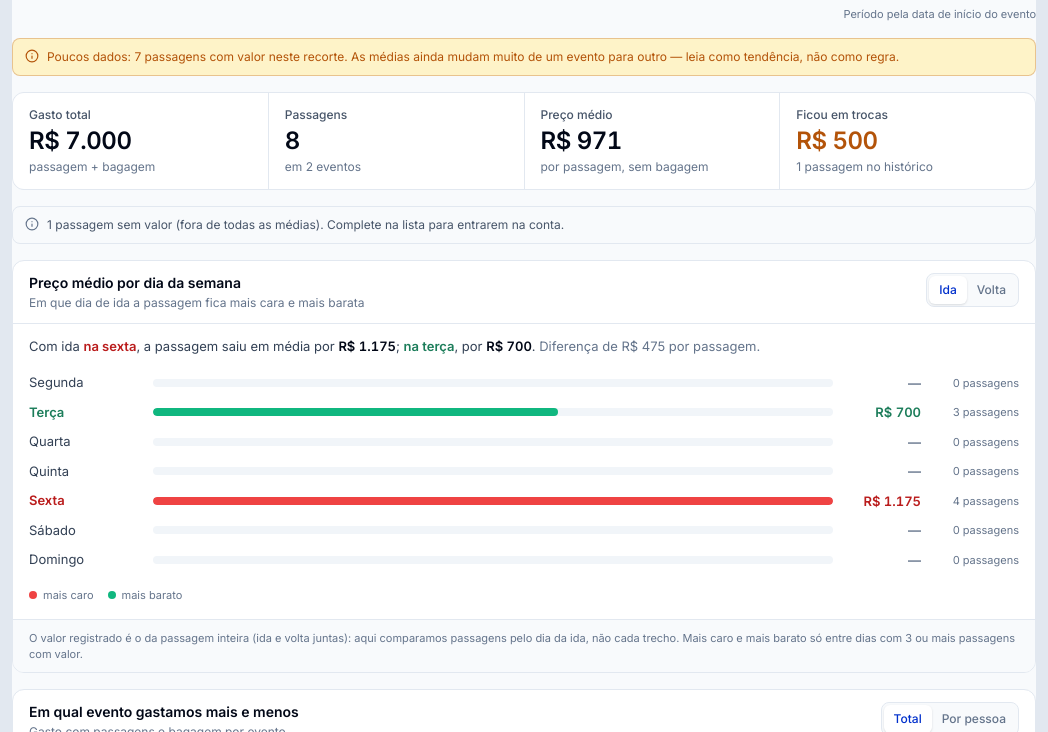
Test: AnalisesDePassagens › alternar para 'Por pessoa' reordena, muda a frase e sobe para a visão (que vai para a URL)
Click the radio button with test id "eventos-modo-pessoa": (974, 718) [932,704,1016,731]
(page scrolled)
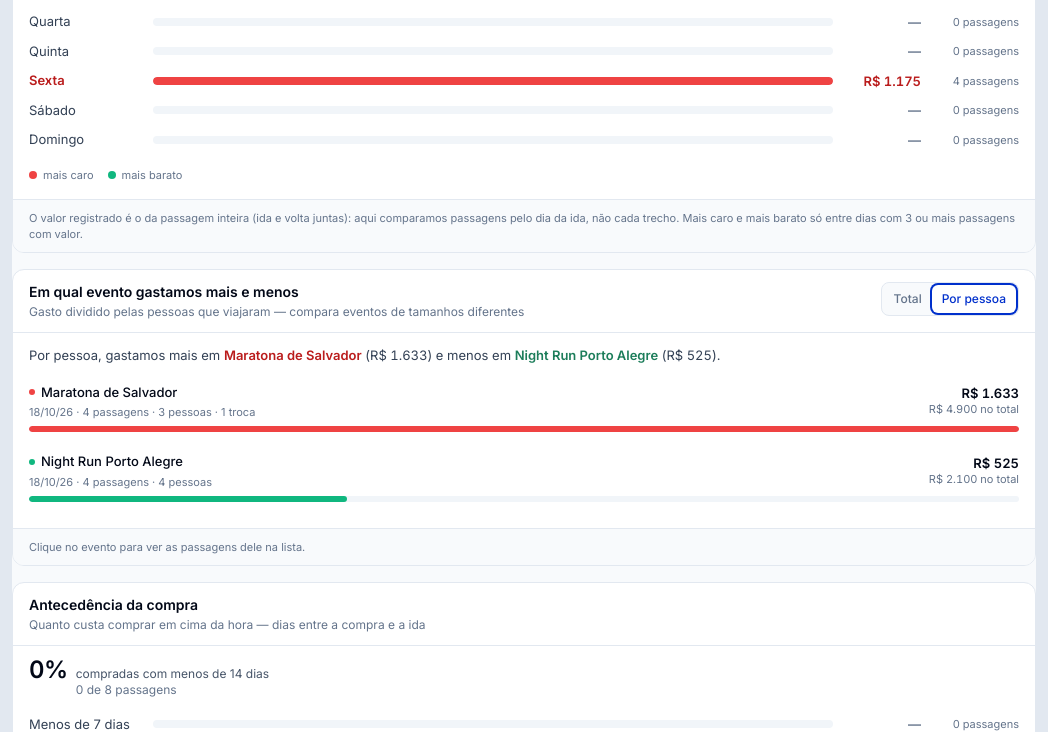
Now the element with test id "analise-eventos-resposta" shows "Por pessoa, gastamos mais em Maratona de Salvador", box [29,346,720,362]
